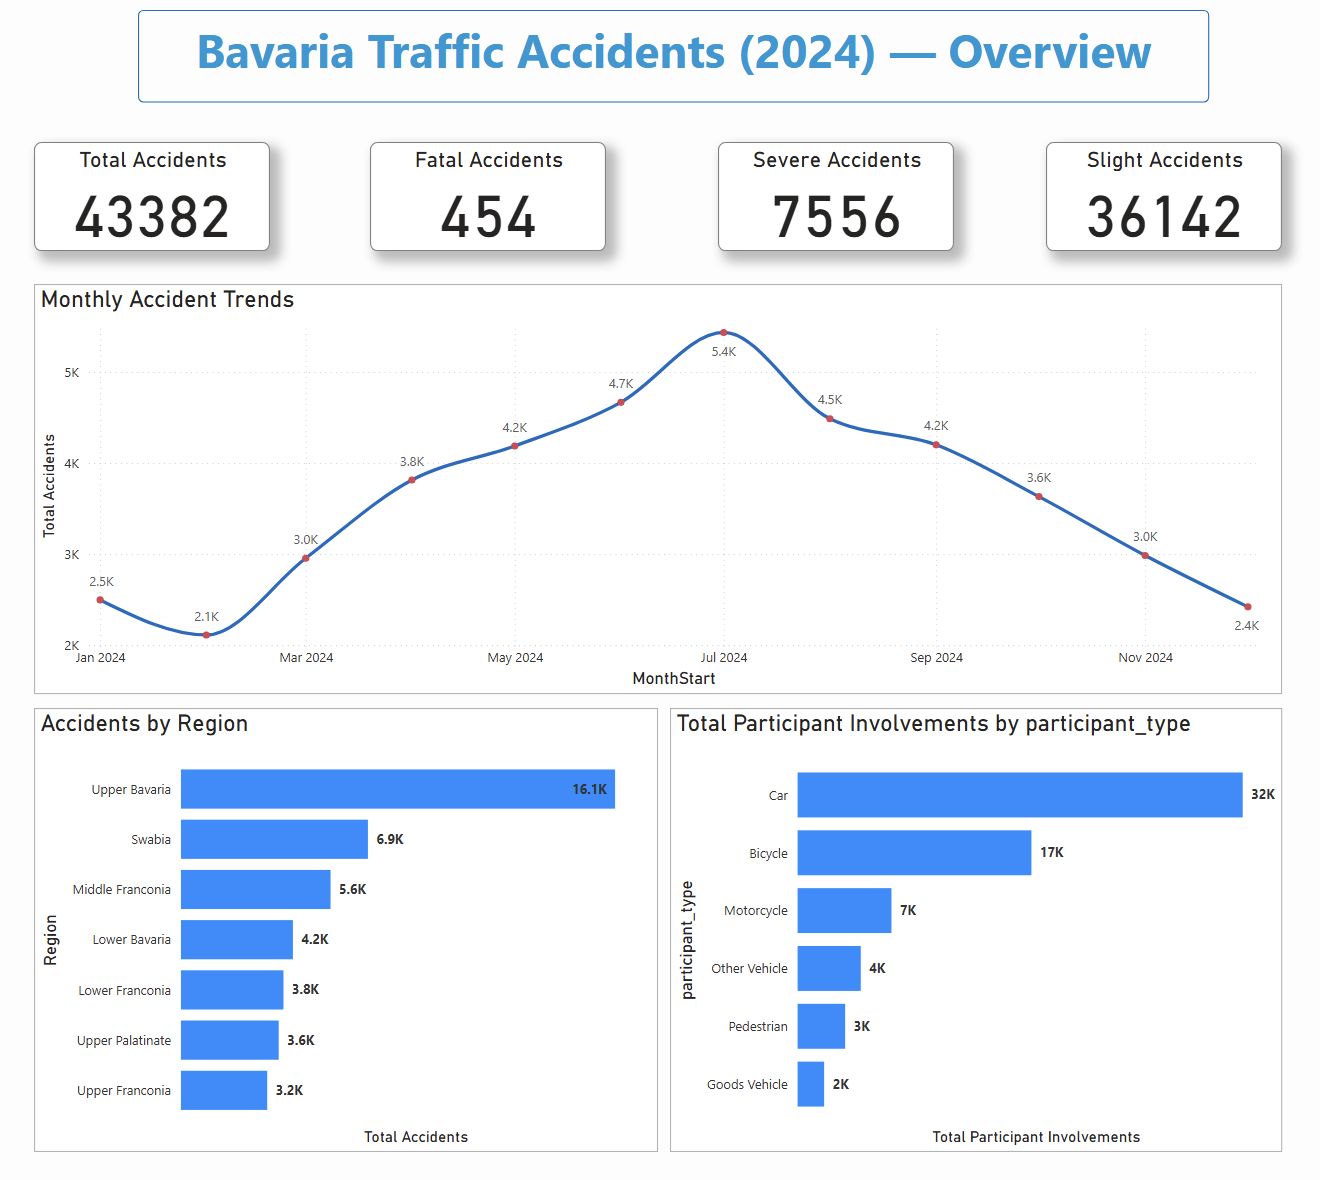

This screenshot's page, from the dashboard's own definition file:
{"tool":"powerbi","page":{"name":"Overview","canvas":[1280,1200],"ordinal":0},"visuals":[{"type":"card","title":"Total Accidents","fields":{"Values":["Measures Table.Total Accidents"]},"box":[61.8,146.6,219.6,101.5],"z":0},{"type":"card","title":"Fatal Accidents","fields":{"Values":["Measures Table.SevereOrFatal Accidents"]},"box":[373.2,146.6,219.6,101.5],"z":1000},{"type":"card","title":"Severe Accidents","fields":{"Values":["Measures Table.Severe Accidents"]},"box":[697,146.6,219.6,101.5],"z":2000},{"type":"card","title":"Slight Accidents","fields":{"Values":["Measures Table.Slight Accidents"]},"box":[1002.7,146.6,219.6,101.5],"z":3000},{"type":"textbox","box":[158.4,23.6,996.5,86.2],"z":4000},{"type":"lineChart","title":"Monthly Accident Trends","fields":{"Category":["Fact_Accident.MonthStart.Variation.Date Hierarchy.Month"],"Y":["Measures Table.Total Accidents"]},"box":[62,279.1,1161.2,381.4],"z":5000},{"type":"clusteredBarChart","title":"Accidents by Region","fields":{"Category":["dim_district.region_name_en"],"Y":["Measures Table.Total Accidents"]},"box":[61.4,673.5,580.5,413],"z":6000},{"type":"clusteredBarChart","fields":{"Category":["ParticipantInvolvement.participant_type"],"Y":["Measures Table.Total Involvementss"]},"box":[653,673.5,569.3,413],"z":7000}]}

Visuals, with their boxes on the page's 1280x1200 design canvas (x1, y1, x2, y2). These are canvas units, not pixel positions in the 1320x1180 screenshot, which may show the page scaled, cropped or inside an application window:
"Total Accidents" card: (x1=62, y1=147, x2=281, y2=248)
"Fatal Accidents" card: (x1=373, y1=147, x2=593, y2=248)
"Severe Accidents" card: (x1=697, y1=147, x2=917, y2=248)
"Slight Accidents" card: (x1=1003, y1=147, x2=1222, y2=248)
textbox: (x1=158, y1=24, x2=1155, y2=110)
"Monthly Accident Trends" lineChart: (x1=62, y1=279, x2=1223, y2=660)
"Accidents by Region" clusteredBarChart: (x1=61, y1=674, x2=642, y2=1086)
clusteredBarChart - ParticipantInvolvement.participant_type x Measures Table.Total Involvementss: (x1=653, y1=674, x2=1222, y2=1086)
